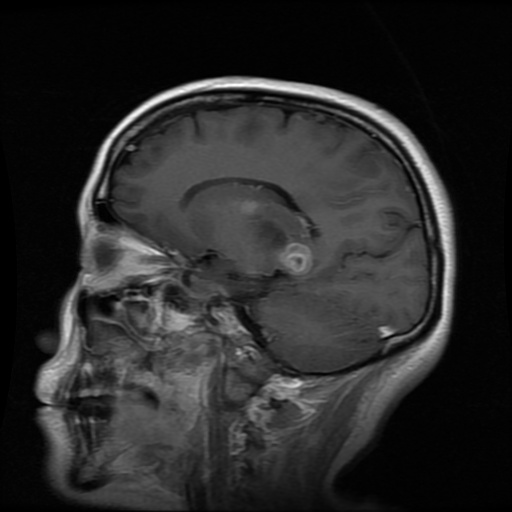glioma: (279, 242, 312, 274)
